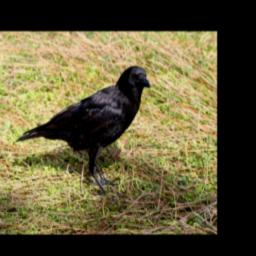Crow: (12, 65, 149, 198)
